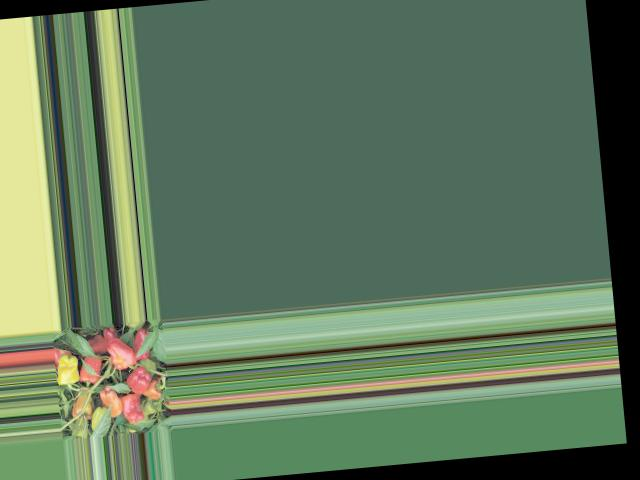bell_pepper: (144, 384, 164, 400)
